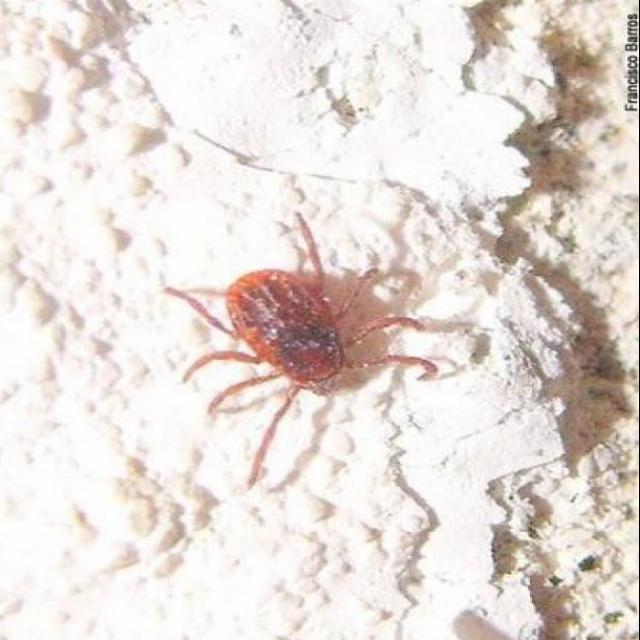Rhipicephalus Sanguineus-F: (166, 212, 458, 491)
